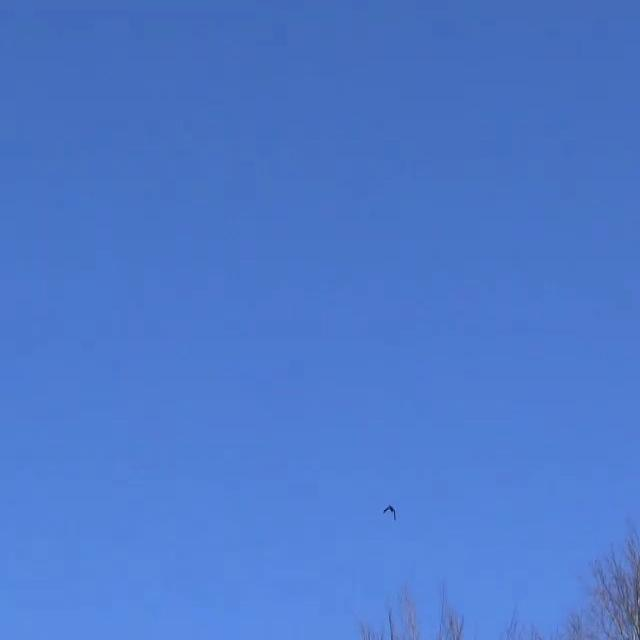bird: (380, 500, 399, 525)
